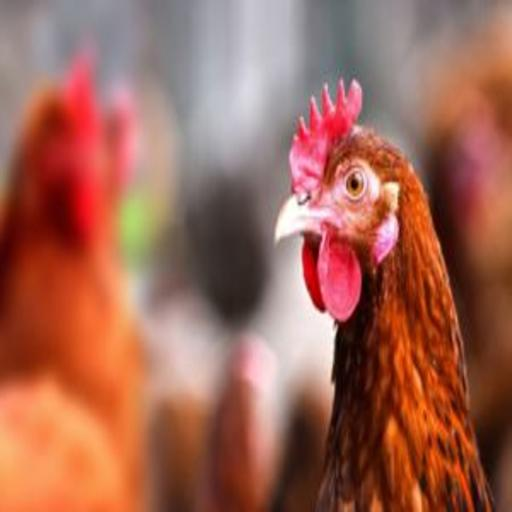healthy: (274, 92, 395, 342)
